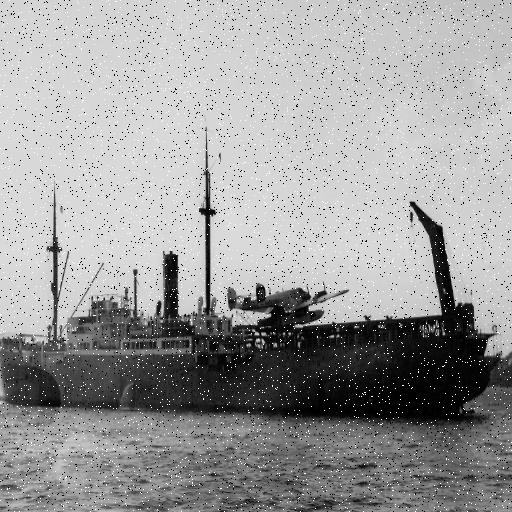Portanaves: (1, 122, 503, 428)
